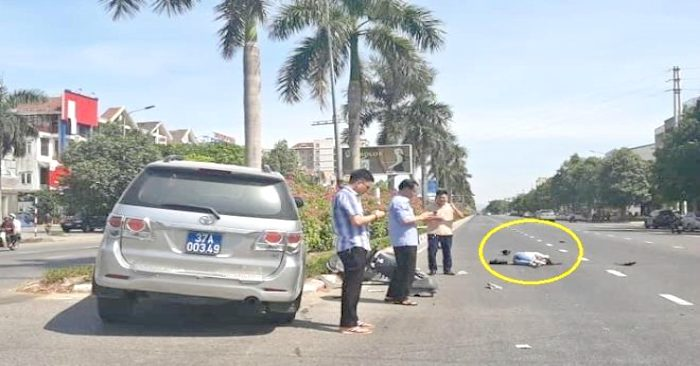plate: (182, 226, 223, 257)
